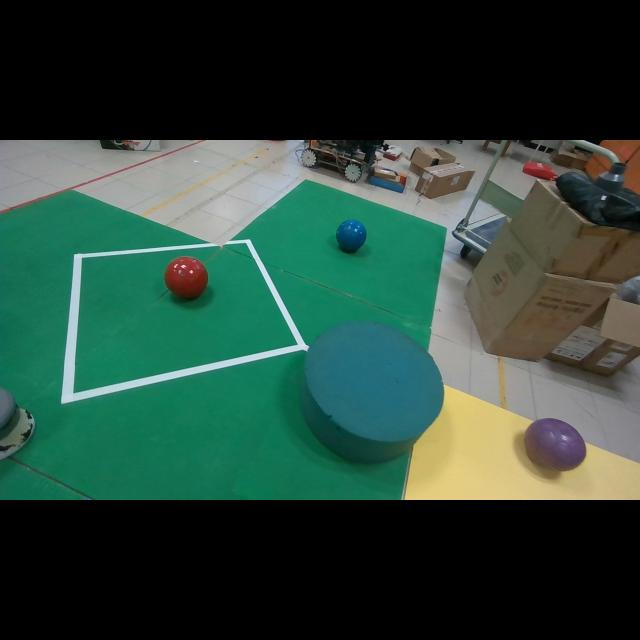B: (336, 219, 366, 252)
P: (524, 419, 586, 471)
R: (164, 256, 208, 299)
